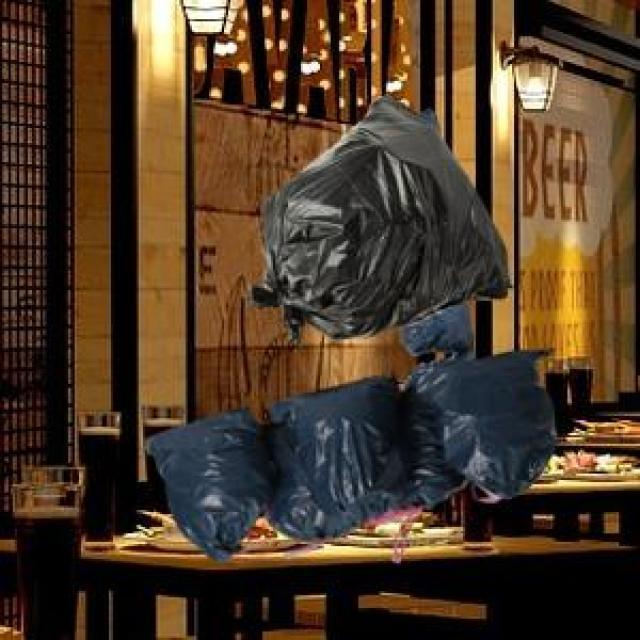Trashbag: (246, 92, 516, 358), (395, 352, 568, 512), (266, 371, 404, 545), (143, 404, 283, 560)
